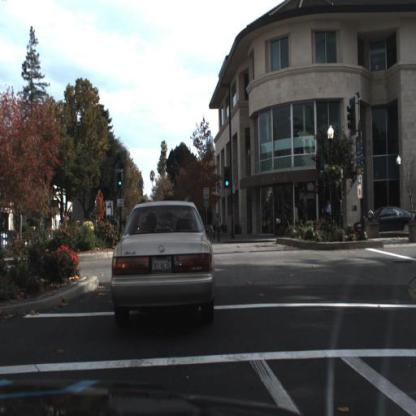car: (111, 198, 218, 330), (354, 204, 416, 235)
pedestrian: (216, 213, 222, 242), (326, 201, 333, 222)
trafficLight: (223, 162, 233, 189), (116, 169, 124, 188)
trafficLight-Green: (224, 166, 232, 190)
